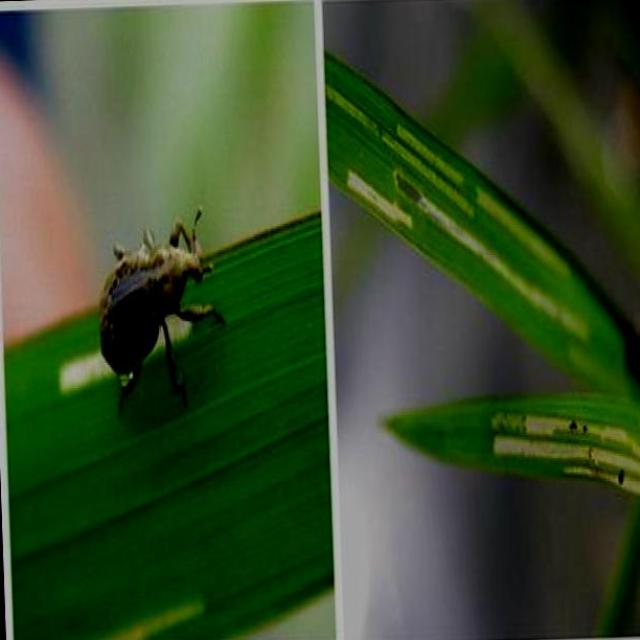ricebug: (100, 210, 225, 405)
